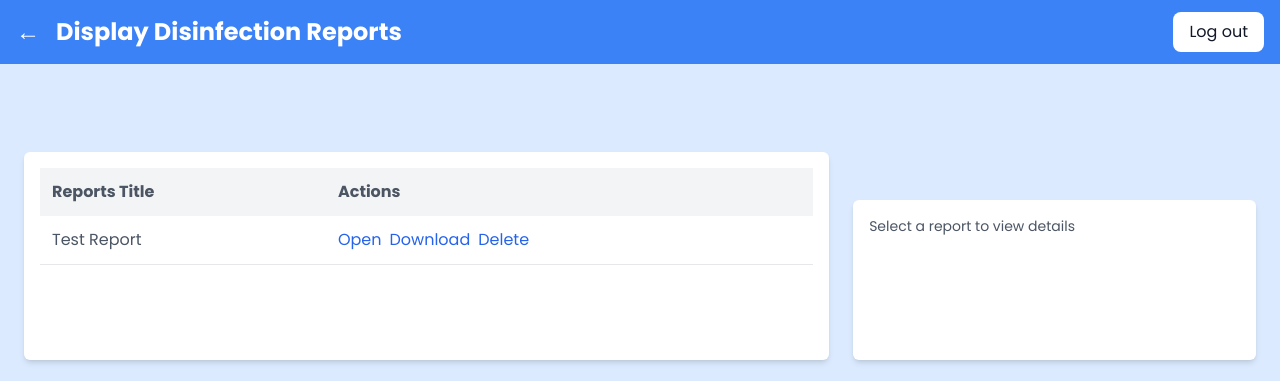
Test case: ReportPage Integration › selects a report and displays its details
Expected: the text "Test Report" is shown, [40, 216, 326, 264]
Click the text "Open".
click(360, 240)  # box [338, 228, 382, 251]
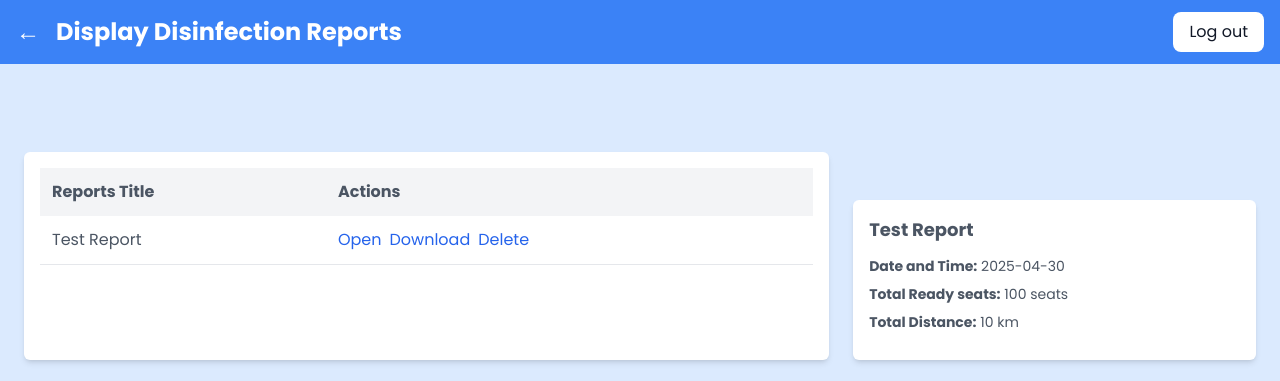
Expected: the text "Date and Time:" is shown, [869, 256, 977, 276]
Expected: the text "Date and Time: 2025-04-30" is shown, [869, 256, 1065, 276]
Expected: the text "100 seats" is shown, [869, 284, 1068, 304]
